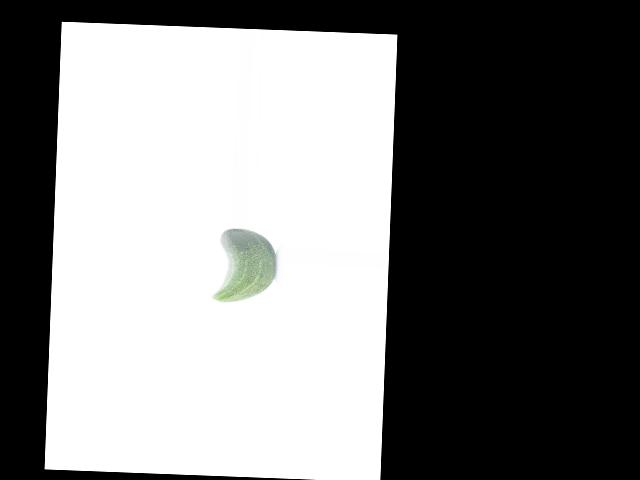cucumber: (212, 227, 277, 304)
